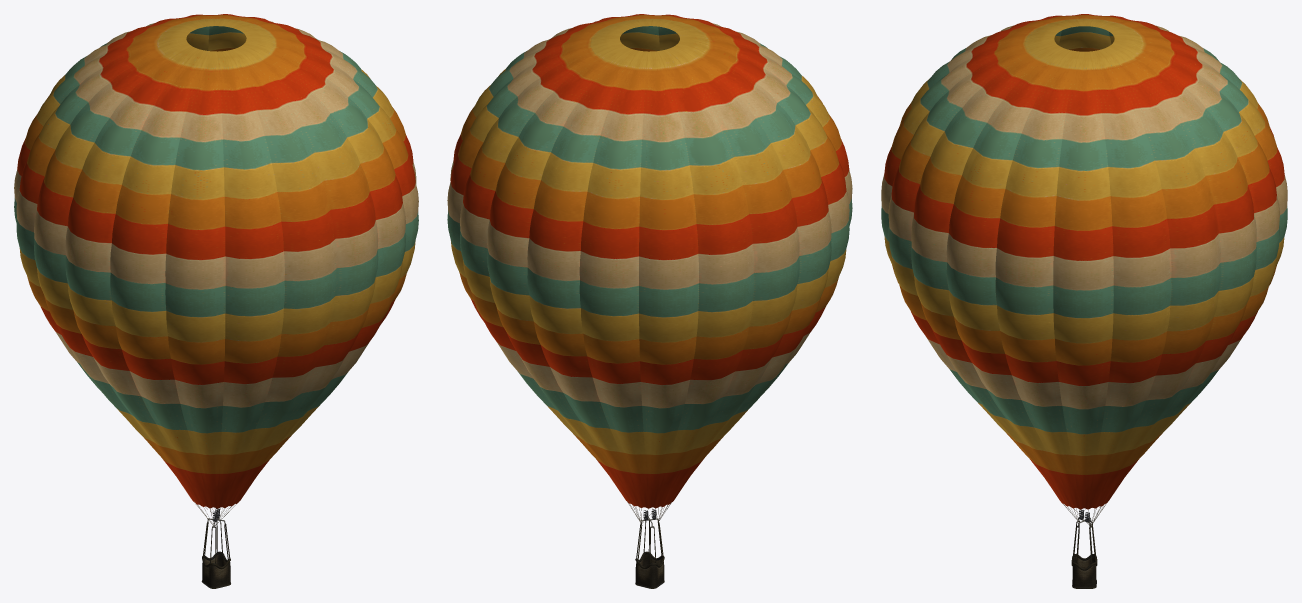
The model's file is SM_AirBalloon.fbx.
3 views of the same model, side by side, from view 1: azimuth 30°, elevation 25°; view 2: azimuth 150°, elevation 25°; view 3: azimuth 270°, elevation 25° (orthographic).
Visible parts, largest first — view 1: HotAirBalloon; view 2: HotAirBalloon; view 3: HotAirBalloon.
Boxes of the visible parts, <box> form: HotAirBalloon: <box>14,14,418,588</box>; HotAirBalloon: <box>447,14,852,588</box>; HotAirBalloon: <box>881,14,1287,588</box>.
Bounding box in the file's own units: 1440 × 1440 × 2131.
2 materials, 2 textured.
